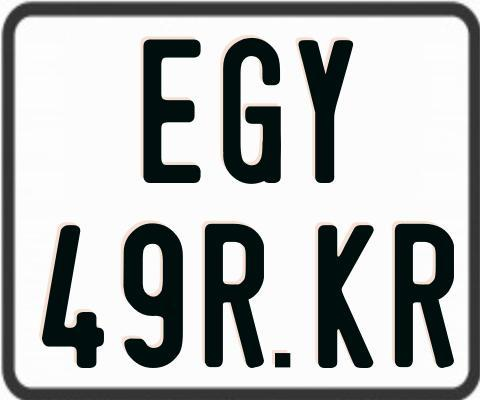4: (41, 225, 105, 374)
9: (122, 221, 187, 372)
E: (143, 37, 204, 185)
G: (223, 37, 286, 184)
K: (317, 225, 374, 369)
R: (394, 222, 459, 367), (205, 224, 267, 373)
Y: (298, 37, 359, 184)
